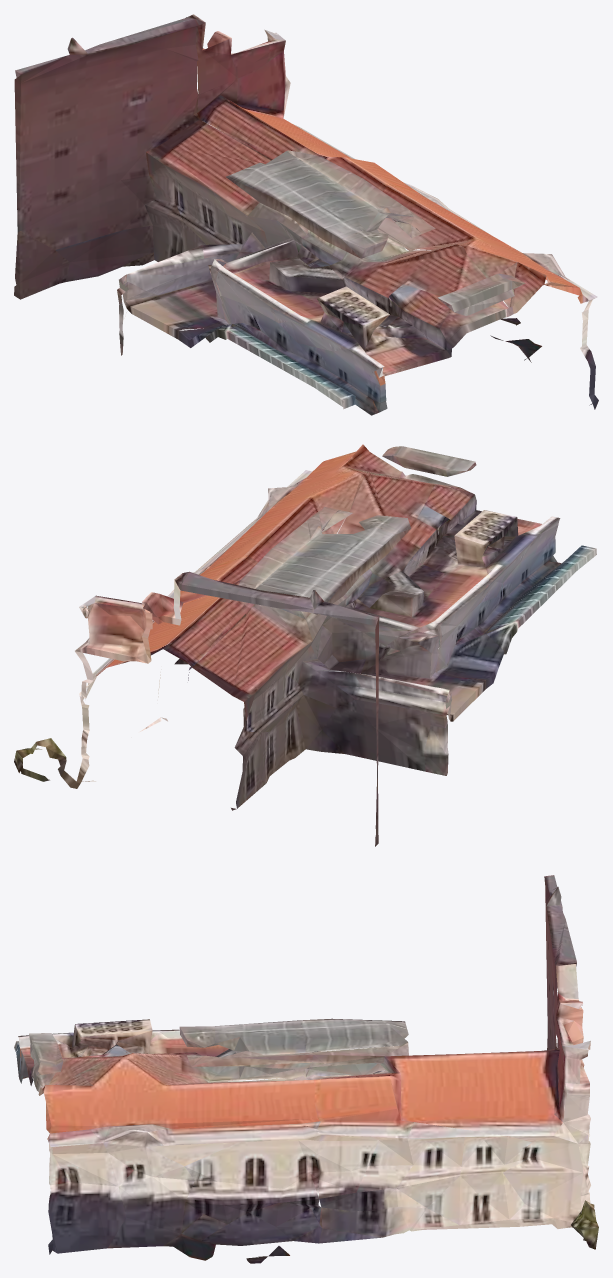
3 renders of one model, top to bottom at view 1: azimuth 30°, elevation 25°; view 2: azimuth 150°, elevation 25°; view 3: azimuth 270°, elevation 25°, orthographic. The views are drawn at different scales.
Visible parts, largest first — view 1: Mesh_0; view 2: Mesh_0; view 3: Mesh_0.
Part boxes in pixels (x1,y1,x2,y2): Mesh_0: [14, 14, 598, 415]; Mesh_0: [14, 444, 596, 846]; Mesh_0: [14, 875, 598, 1263].
Size of the model in its own units: 28.13 by 18.83 by 41.23.
1 material, 1 textured.
